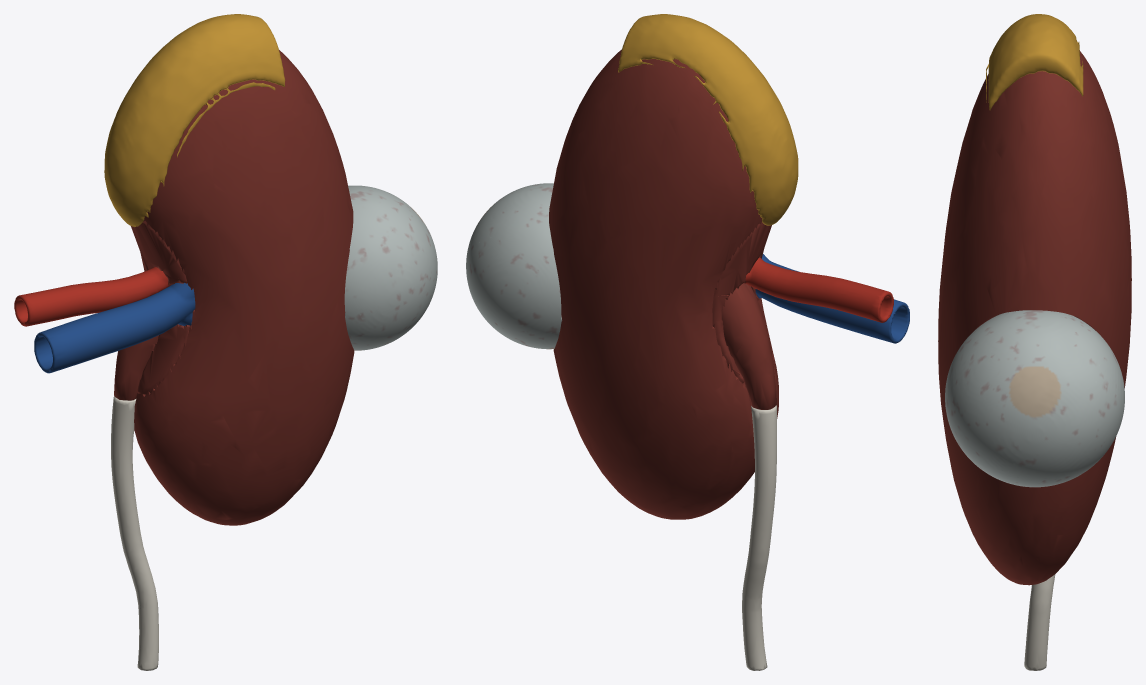
Rendered from kidney_bosniak_4.glb.
The picture shows the model from 3 angles, left to right: view 1: azimuth 30°, elevation 25°; view 2: azimuth 150°, elevation 25°; view 3: azimuth 270°, elevation 25°; orthographic projection. The views are drawn at different scales.
Visible parts, largest first — view 1: kidney_body, adrenal_gland, cyst, renal_vein, ureter, renal_artery; view 2: kidney_body, adrenal_gland, cyst, ureter, renal_artery, renal_vein; view 3: kidney_body, cyst, adrenal_gland, ureter.
Boxes of the visible parts, x1=… form: kidney_body: x1=114, y1=50, x2=354, y2=525; adrenal_gland: x1=104, y1=14, x2=285, y2=226; cyst: x1=344, y1=185, x2=437, y2=350; renal_vein: x1=34, y1=283, x2=195, y2=373; ureter: x1=111, y1=396, x2=158, y2=670; renal_artery: x1=14, y1=267, x2=170, y2=326; kidney_body: x1=549, y1=49, x2=778, y2=519; adrenal_gland: x1=618, y1=14, x2=798, y2=225; cyst: x1=466, y1=183, x2=561, y2=349; ureter: x1=742, y1=405, x2=776, y2=670; renal_artery: x1=743, y1=257, x2=893, y2=322; renal_vein: x1=755, y1=254, x2=909, y2=343; kidney_body: x1=938, y1=51, x2=1131, y2=585; cyst: x1=945, y1=310, x2=1124, y2=487; adrenal_gland: x1=986, y1=14, x2=1083, y2=110; ureter: x1=1024, y1=574, x2=1055, y2=670.
Size of the model in its own units: 9.65 by 14.23 by 3.65.
